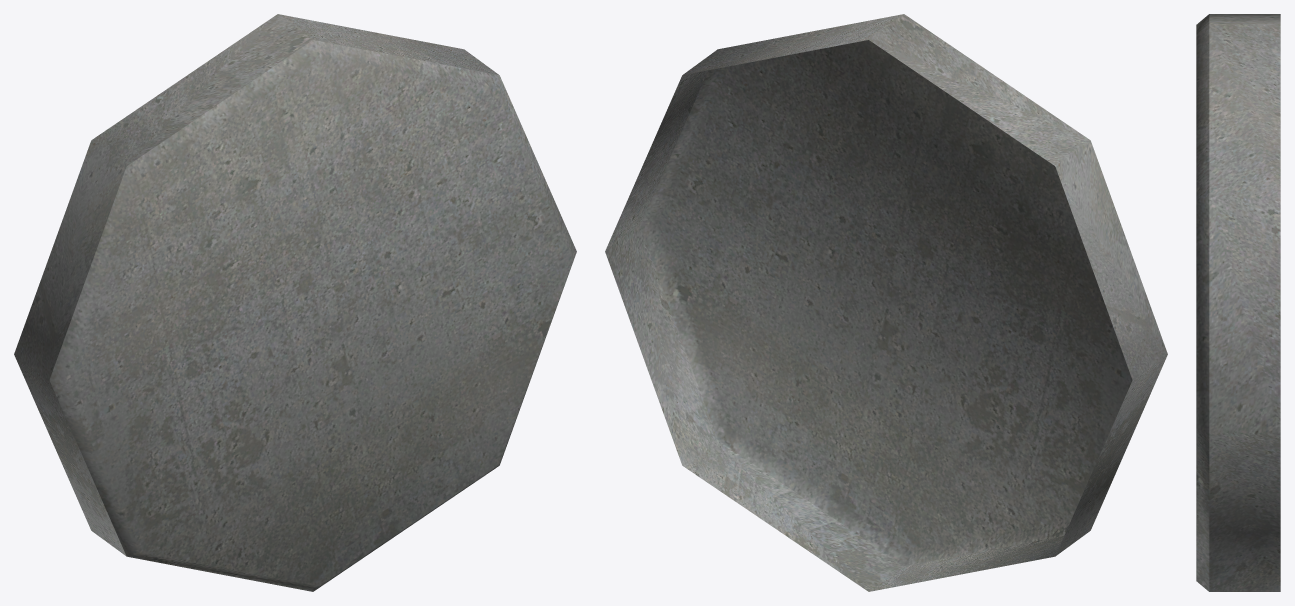
File: nt_2020_paver_circle_01_LOD2.obj
The picture shows the model from 3 angles, left to right: view 1: azimuth 30°, elevation 25°; view 2: azimuth 150°, elevation 25°; view 3: azimuth 270°, elevation 25°; orthographic projection.
Visible parts, largest first — view 1: jun_art_concrete_base02; view 2: jun_art_concrete_base02; view 3: jun_art_concrete_base02.
Part boxes in pixels (x1=…): jun_art_concrete_base02: x1=14, y1=14, x2=576, y2=591; jun_art_concrete_base02: x1=605, y1=14, x2=1167, y2=591; jun_art_concrete_base02: x1=1196, y1=14, x2=1280, y2=591.
Size of the model in its own units: 113 by 113 by 15.57.
